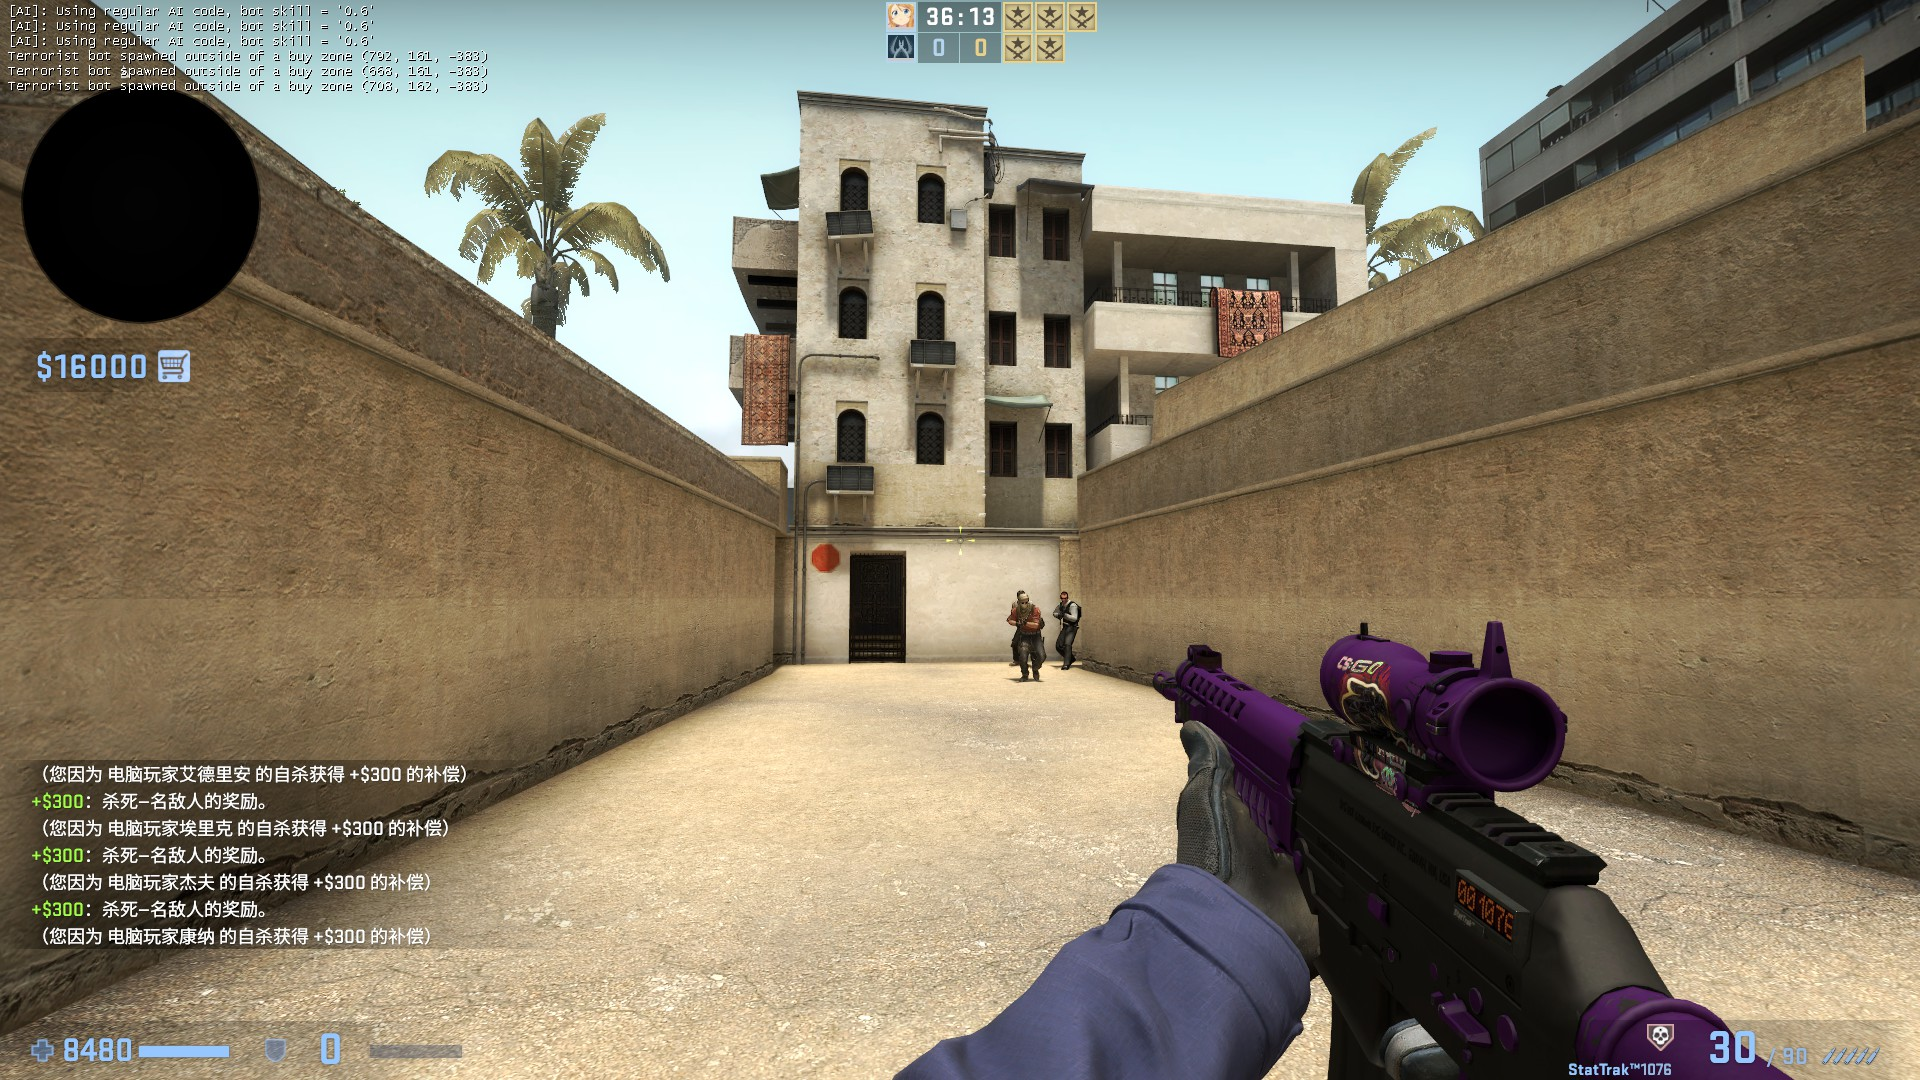head: (1018, 594, 1028, 612), (1059, 592, 1067, 604), (1014, 590, 1025, 597)
